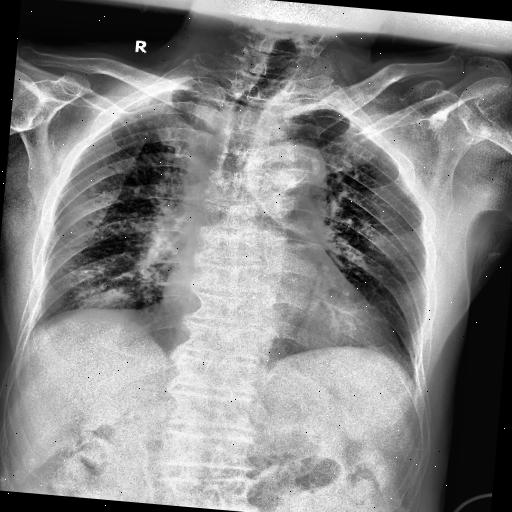0- Aortic enlargement: (252, 140, 336, 216), (248, 142, 330, 208), (253, 140, 329, 185)
3- Cardiomegaly: (158, 256, 404, 356), (157, 280, 400, 366), (157, 279, 407, 356)
7- Lung Opacity: (80, 288, 138, 321)
